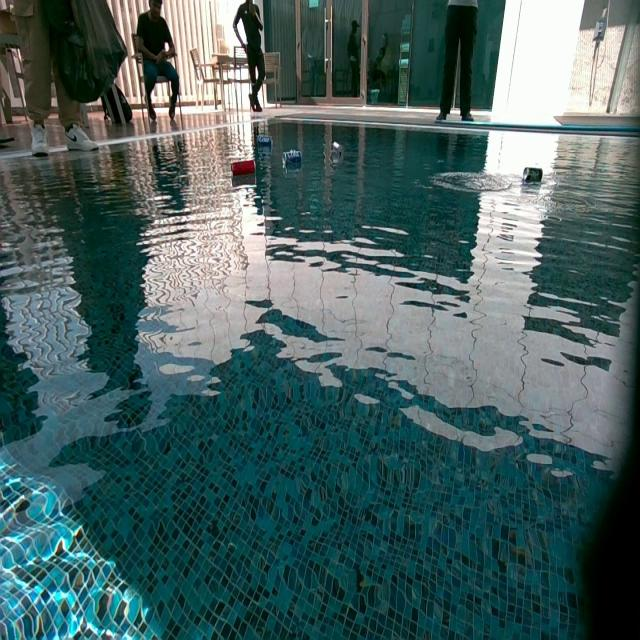Cans: (232, 162, 256, 178), (522, 168, 542, 185), (283, 149, 302, 165), (257, 135, 273, 148), (333, 141, 344, 159)
